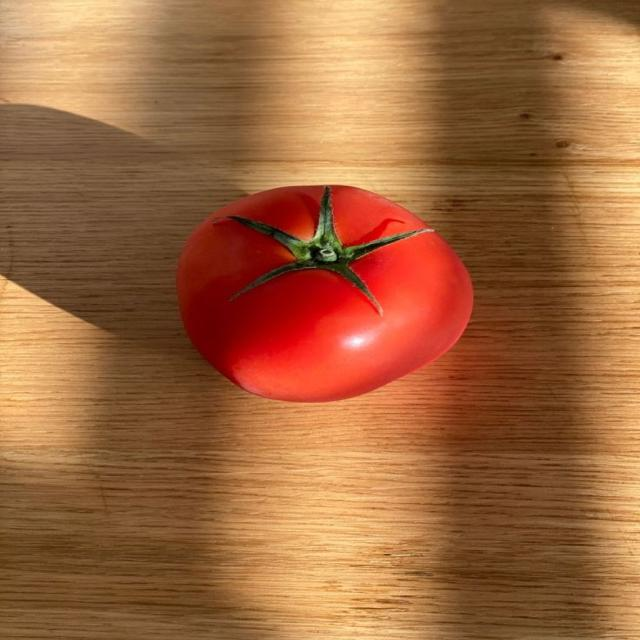tomato: (178, 186, 472, 401)
